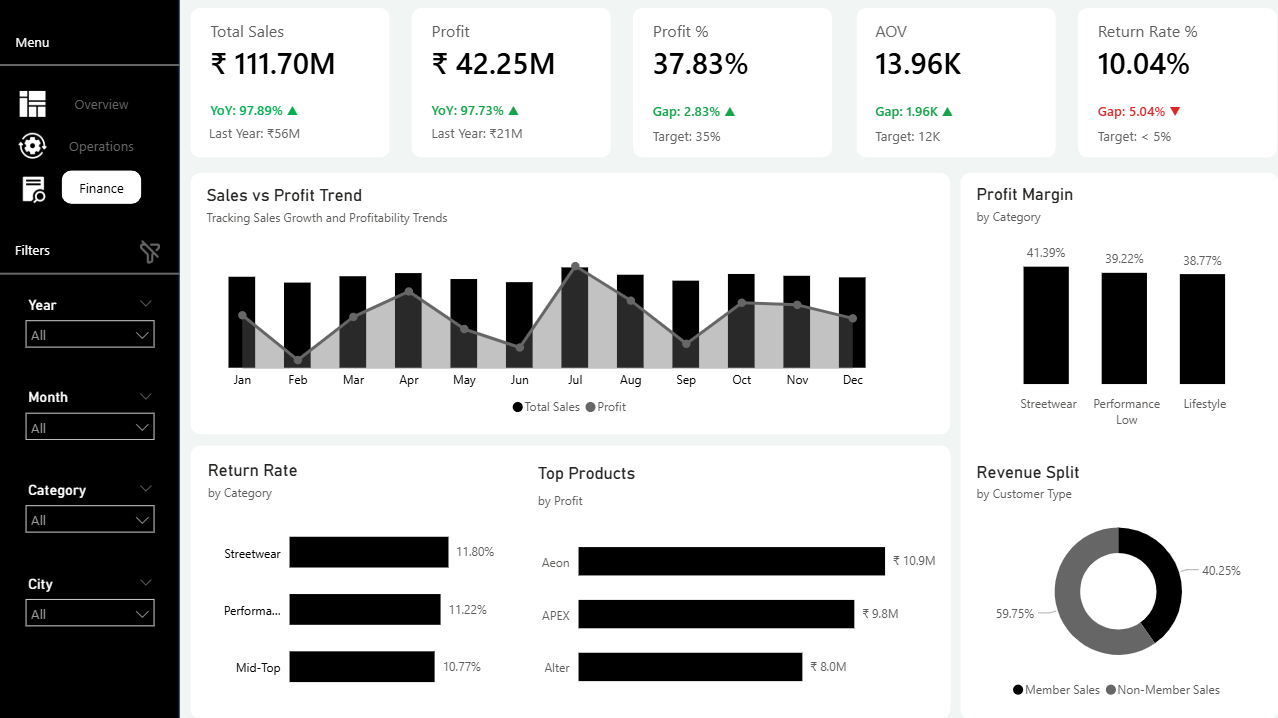

The dashboard page shown, as its layout file describes it:
{"tool":"powerbi","page":{"name":"Finance","canvas":[1280,720],"ordinal":2},"visuals":[{"type":"shape","box":[0,0,180.8,720],"z":0},{"type":"shape","box":[634.8,8.2,199.5,150],"z":0,"group":"g3"},{"type":"shape","box":[857.6,8.2,199.5,150],"z":0,"group":"g4"},{"type":"shape","box":[1078.8,8.2,199.5,150],"z":0,"group":"g5"},{"type":"shape","box":[191.2,8.2,199.5,150],"z":1000,"group":"g1"},{"type":"cardVisual","fields":{"Data":["Measures Table.Profit %"]},"box":[634.4,8.7,200,85],"z":1000,"group":"g3"},{"type":"cardVisual","fields":{"Data":["Measures Table.Avg Order Value"]},"box":[856.8,8.7,200,85],"z":1000,"group":"g4"},{"type":"cardVisual","fields":{"Data":["Measures Table.Return Rate %"]},"box":[1079,8.7,200,85],"z":1000,"group":"g5"},{"type":"shape","box":[7.2,236.5,51.9,29],"z":1000},{"type":"shape","box":[413,8.2,199.5,150],"z":2000,"group":"g2"},{"type":"shape","box":[7.2,27.7,51.9,29],"z":2000},{"type":"cardVisual","fields":{"Data":["Measures Table.Profit % Gap Text"]},"box":[634.7,93.9,198.9,31.7],"z":2000,"group":"g3"},{"type":"cardVisual","fields":{"Data":["Measures Table.AOV Gap Text"]},"box":[856.8,93.9,198.9,31.7],"z":2000,"group":"g4"},{"type":"cardVisual","fields":{"Data":["Measures Table.Return Rate Gap Text"]},"box":[1078.9,93.9,198.9,31.7],"z":2000,"group":"g5"},{"type":"shape","box":[190.8,446.6,760.5,273.4],"z":2000,"group":"g7"},{"type":"shape","box":[654.2,124.4,158.7,23.2],"z":3000,"group":"g3"},{"type":"shape","box":[876.3,124.4,158.7,23.2],"z":3000,"group":"g4"},{"type":"shape","box":[1098.4,124.4,158.7,23.2],"z":3000,"group":"g5"},{"type":"shape","box":[0,266.6,181,16.9],"z":3000},{"type":"shape","box":[0,57,180.9,17.1],"z":4000},{"type":"slicer","fields":{"Values":["Calendar.Year"]},"box":[15.7,292,149.6,67.6],"z":5000},{"type":"cardVisual","fields":{"Data":["Measures Table.Total Sales"]},"box":[191.4,8.7,200,85],"z":6000,"group":"g1"},{"type":"image","box":[18.5,89.7,29.9,29.9],"z":6000},{"type":"shape","box":[961.5,173.5,318.5,546.5],"z":6000,"group":"g8"},{"type":"cardVisual","fields":{"Data":["Measures Table.Sales YoY Text"]},"box":[191.4,93.7,199,31.2],"z":7000,"group":"g1"},{"type":"slicer","fields":{"Values":["Calendar.Month"]},"box":[15.7,384.9,149.6,67.6],"z":7000},{"type":"shape","box":[210.2,124.9,160,23.8],"z":8000,"group":"g1"},{"type":"image","box":[18.5,133.9,29.9,28.5],"z":8000},{"type":"cardVisual","fields":{"Data":["Measures Table.Profit"]},"box":[412.9,8.7,200,85],"z":9000,"group":"g2"},{"type":"slicer","fields":{"Values":["Products.Category"]},"box":[15.7,477.8,149.6,67.6],"z":9000},{"type":"cardVisual","fields":{"Data":["Measures Table.Profit YoY Text"]},"box":[412.9,93.7,199,31.2],"z":10000,"group":"g2"},{"type":"image","box":[19.9,176.6,28.5,28.5],"z":10000},{"type":"shape","box":[432.9,124.9,160,23.8],"z":11000,"group":"g2"},{"type":"slicer","fields":{"Values":["Customers.City"]},"box":[15.7,570.6,149.6,67.6],"z":11000},{"type":"actionButton","box":[62.7,88.1,80,33.8],"z":12000},{"type":"columnChart","title":"Profit Margin","fields":{"Category":["Products.Category"],"Y":["Measures Table.Profit %"]},"box":[972.6,184.9,294.8,250.6],"z":13000,"group":"g8"},{"type":"image","box":[136.3,241.3,29,26.5],"z":13000},{"type":"actionButton","box":[62.7,130.3,80,33.8],"z":14000},{"type":"clusteredBarChart","title":"Return Rate","fields":{"Category":["Products.Category"],"Y":["Measures Table.Return Rate %"]},"box":[203.9,461.3,296.6,253],"z":14000,"group":"g7"},{"type":"actionButton","box":[62.7,171.3,80,33.8],"z":15000},{"type":"barChart","title":"Top Products","fields":{"Category":["Products.Model"],"Y":["Measures Table.Profit"]},"box":[533.7,464.6,410.9,247.8],"z":15000,"group":"g7"},{"type":"group","id":"g1","title":"Group 1","box":[191.2,8.2,200.2,150],"z":16000},{"type":"donutChart","title":"Revenue Split","fields":{"Y":["Measures Table.Member Sales","Measures Table.Non-Member Sales"]},"box":[972.4,461.8,294.1,246.5],"z":16000,"group":"g9"},{"type":"group","id":"g2","title":"Group 2","box":[412.9,8.2,200,150],"z":17000},{"type":"group","id":"g3","title":"Group 3","box":[634.4,8.2,200,150],"z":18000},{"type":"group","id":"g4","title":"Group 4","box":[856.8,8.2,200.2,150],"z":19000},{"type":"shape","box":[191.8,173.5,760.1,261.8],"z":19000,"group":"g6"},{"type":"group","id":"g5","title":"Group 5","box":[1078.8,8.2,200.2,150],"z":20000},{"type":"lineClusteredColumnComboChart","title":"Sales vs Profit Trend","fields":{"Category":["Calendar.Month"],"Y":["Measures Table.Total Sales"],"Y2":["Measures Table.Profit"]},"box":[202.7,185.6,739.5,240.1],"z":20000,"group":"g6"},{"type":"group","id":"g6","title":"Group 6","box":[191.8,173.5,760.1,261.8],"z":21000},{"type":"group","id":"g7","title":"Group 8","box":[190.8,446.6,760.5,273.4],"z":22000},{"type":"group","id":"g8","title":"Group 9","box":[961.5,173.5,318.5,546.5],"z":23000},{"type":"group","id":"g9","title":"Group 7","box":[972.4,461.8,294.1,246.5],"z":23002,"group":"g8"}]}

Visuals, with their boxes on the page's 1280x720 design canvas (x1, y1, x2, y2). These are canvas units, not pixel positions in the 1278x718 screenshot, which may show the page scaled, cropped or inside an application window:
shape: crop(0, 0, 181, 720)
shape: crop(635, 8, 834, 158)
shape: crop(858, 8, 1057, 158)
shape: crop(1079, 8, 1278, 158)
shape: crop(191, 8, 391, 158)
cardVisual - Measures Table.Profit %: crop(634, 9, 834, 94)
cardVisual - Measures Table.Avg Order Value: crop(857, 9, 1057, 94)
cardVisual - Measures Table.Return Rate %: crop(1079, 9, 1279, 94)
shape: crop(7, 236, 59, 266)
shape: crop(413, 8, 612, 158)
shape: crop(7, 28, 59, 57)
cardVisual - Measures Table.Profit % Gap Text: crop(635, 94, 834, 126)
cardVisual - Measures Table.AOV Gap Text: crop(857, 94, 1056, 126)
cardVisual - Measures Table.Return Rate Gap Text: crop(1079, 94, 1278, 126)
shape: crop(191, 447, 951, 720)
shape: crop(654, 124, 813, 148)
shape: crop(876, 124, 1035, 148)
shape: crop(1098, 124, 1257, 148)
shape: crop(0, 267, 181, 284)
shape: crop(0, 57, 181, 74)
slicer - Calendar.Year: crop(16, 292, 165, 360)
cardVisual - Measures Table.Total Sales: crop(191, 9, 391, 94)
image: crop(18, 90, 48, 120)
shape: crop(962, 174, 1280, 720)
cardVisual - Measures Table.Sales YoY Text: crop(191, 94, 390, 125)
slicer - Calendar.Month: crop(16, 385, 165, 452)
shape: crop(210, 125, 370, 149)
image: crop(18, 134, 48, 162)
cardVisual - Measures Table.Profit: crop(413, 9, 613, 94)
slicer - Products.Category: crop(16, 478, 165, 545)
cardVisual - Measures Table.Profit YoY Text: crop(413, 94, 612, 125)
image: crop(20, 177, 48, 205)
shape: crop(433, 125, 593, 149)
slicer - Customers.City: crop(16, 571, 165, 638)
actionButton: crop(63, 88, 143, 122)
"Profit Margin" columnChart: crop(973, 185, 1267, 436)
image: crop(136, 241, 165, 268)
actionButton: crop(63, 130, 143, 164)
"Return Rate" clusteredBarChart: crop(204, 461, 500, 714)
actionButton: crop(63, 171, 143, 205)
"Top Products" barChart: crop(534, 465, 945, 712)
"Group 1" group: crop(191, 8, 391, 158)
"Revenue Split" donutChart: crop(972, 462, 1266, 708)
"Group 2" group: crop(413, 8, 613, 158)
"Group 3" group: crop(634, 8, 834, 158)
"Group 4" group: crop(857, 8, 1057, 158)
shape: crop(192, 174, 952, 435)
"Group 5" group: crop(1079, 8, 1279, 158)
"Sales vs Profit Trend" lineClusteredColumnComboChart: crop(203, 186, 942, 426)
"Group 6" group: crop(192, 174, 952, 435)
"Group 8" group: crop(191, 447, 951, 720)
"Group 9" group: crop(962, 174, 1280, 720)
"Group 7" group: crop(972, 462, 1266, 708)
